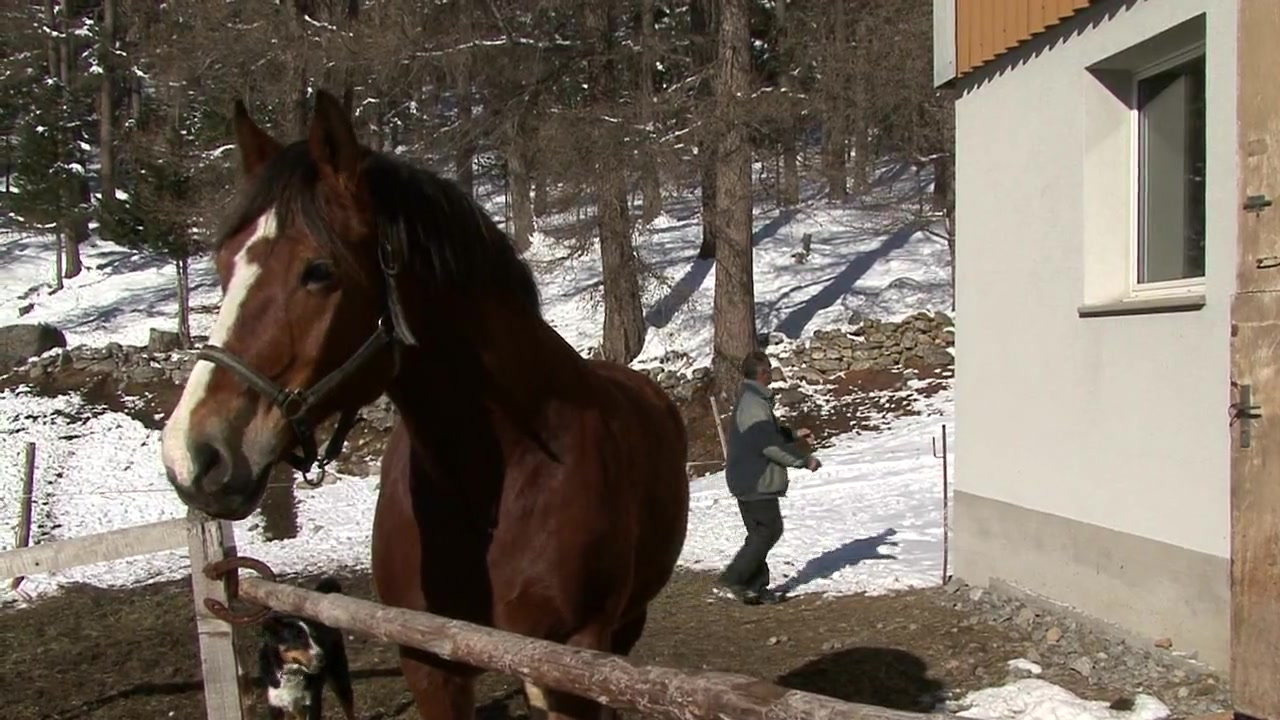horse: (161, 86, 691, 720)
